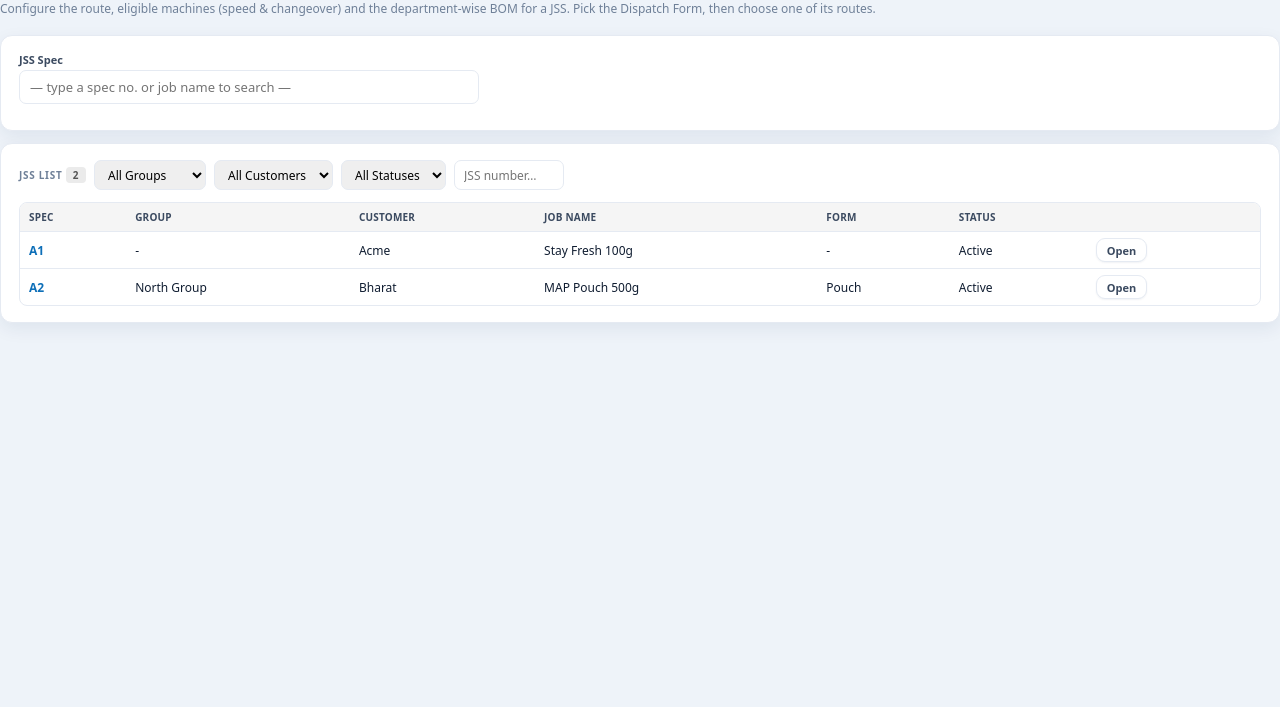
JssPlanningPanel › offers a way back to the JSS list once a spec is open
Expected: the text "JSS List 2" is shown, x1=19 y1=167 x2=86 y2=183
Expected: the button "Back to JSS list" is not shown
Type "a2 — map pouch 500g" into the field named "JSS Spec". click: (249, 87)
box: x1=19 y1=70 x2=479 y2=104
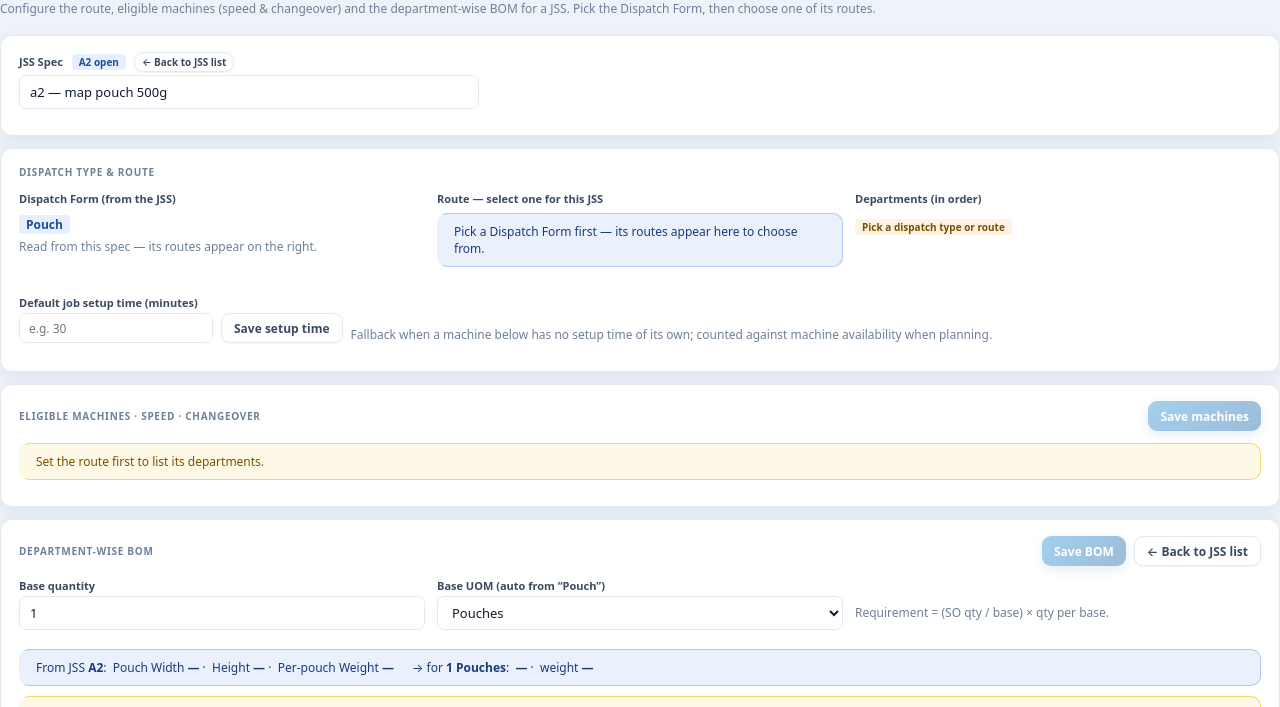
Expected: the text "Dispatch Type & Route" is shown, x1=19 y1=165 x2=155 y2=179
Click the 2nd button "← Back to JSS list". click: (1197, 551)
box: x1=1134 y1=536 x2=1261 y2=566
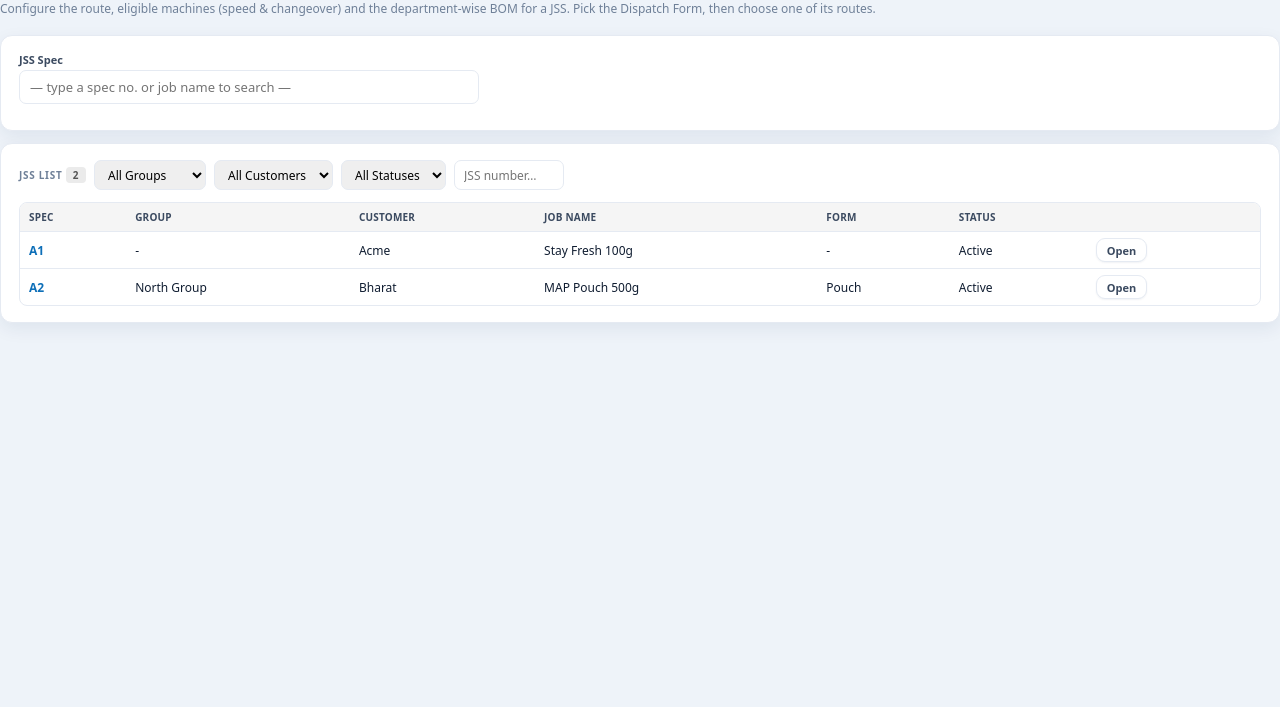
Expected: the text "JSS List 2" is shown, x1=19 y1=167 x2=86 y2=183
Expected: the text "Dispatch Type & Route" is gone
Expected: the field named "JSS Spec" is empty, x1=19 y1=70 x2=479 y2=104
